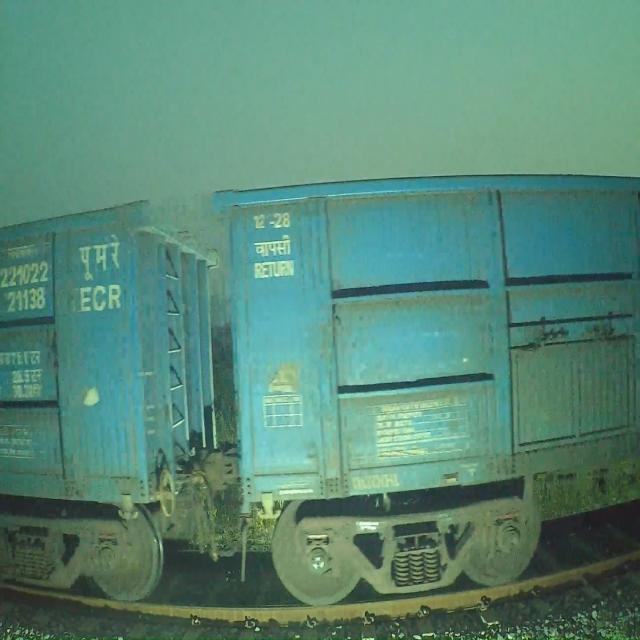WAgon-uic: (212, 171, 640, 605), (0, 194, 219, 602)
uic: (0, 258, 51, 315)
